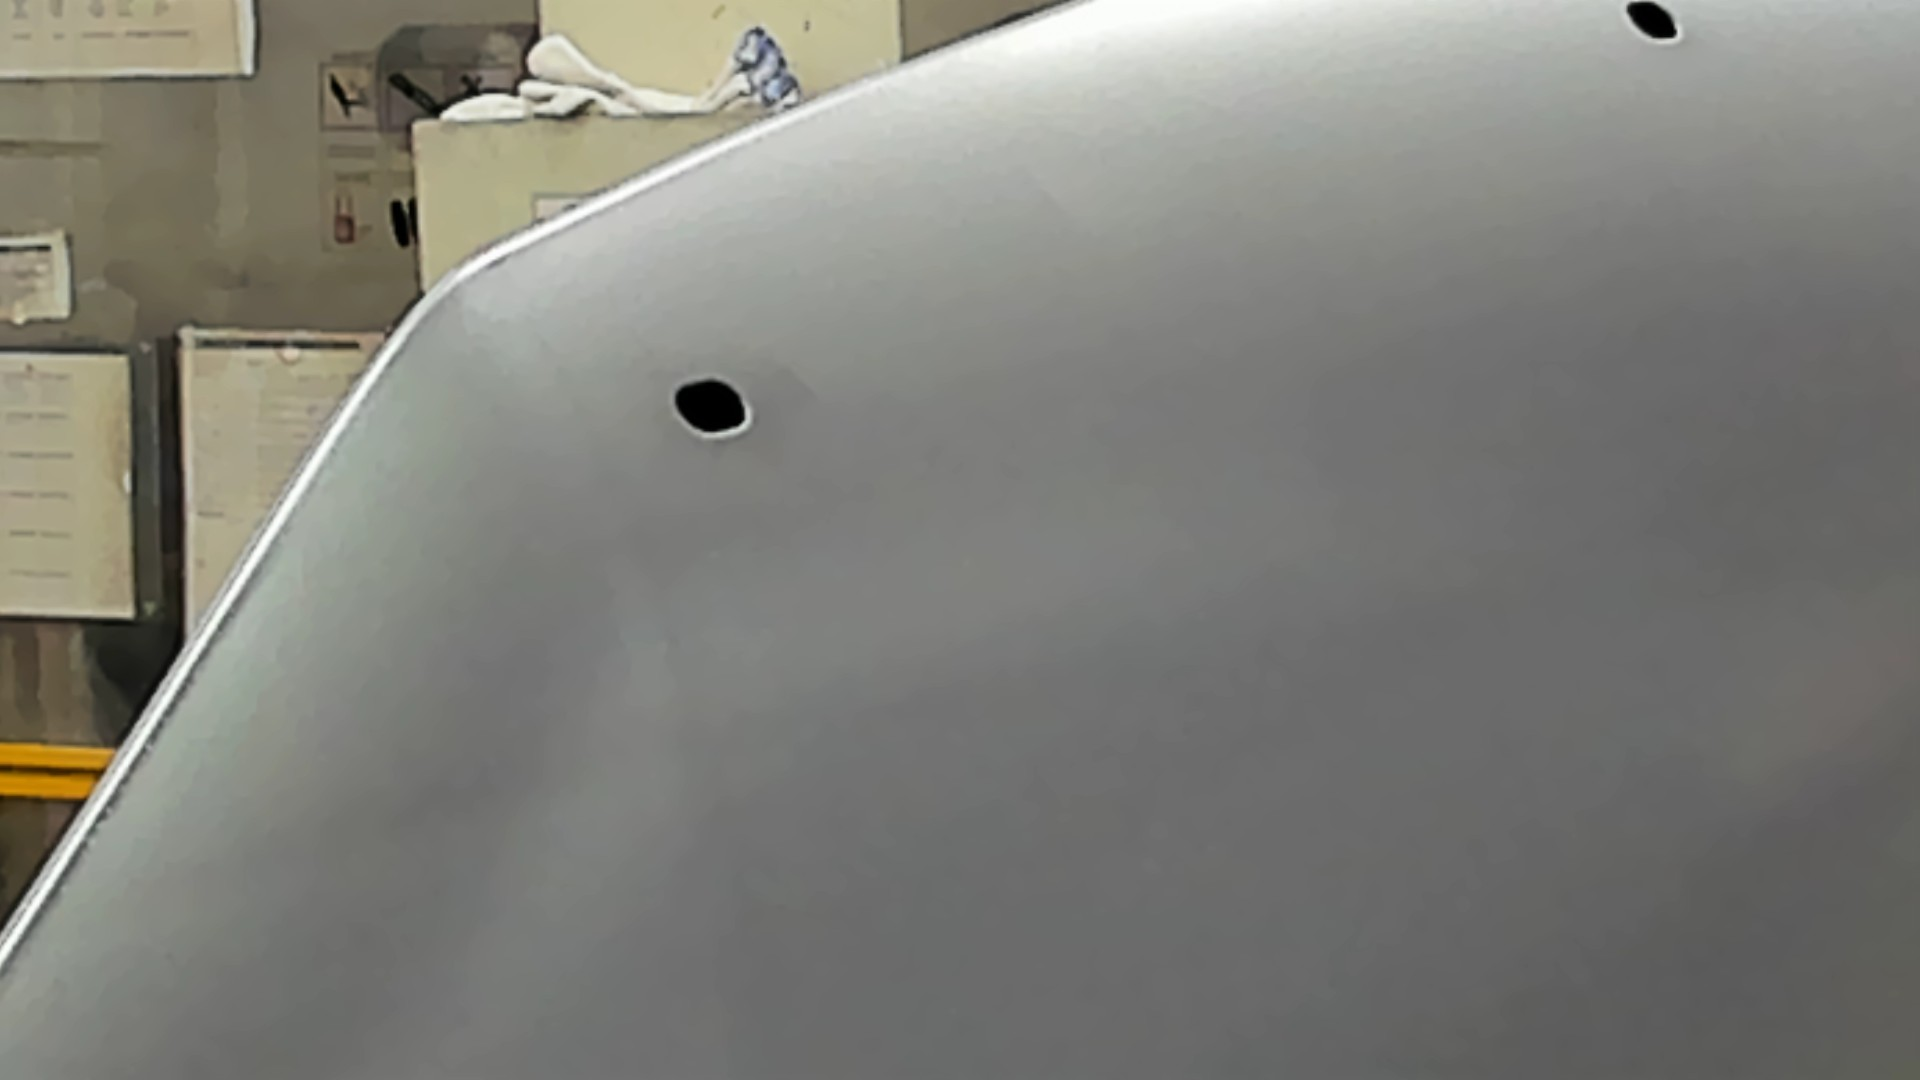amorfo: (671, 371, 756, 447), (1618, 1, 1688, 47)
capo: (870, 119, 1920, 1080)
